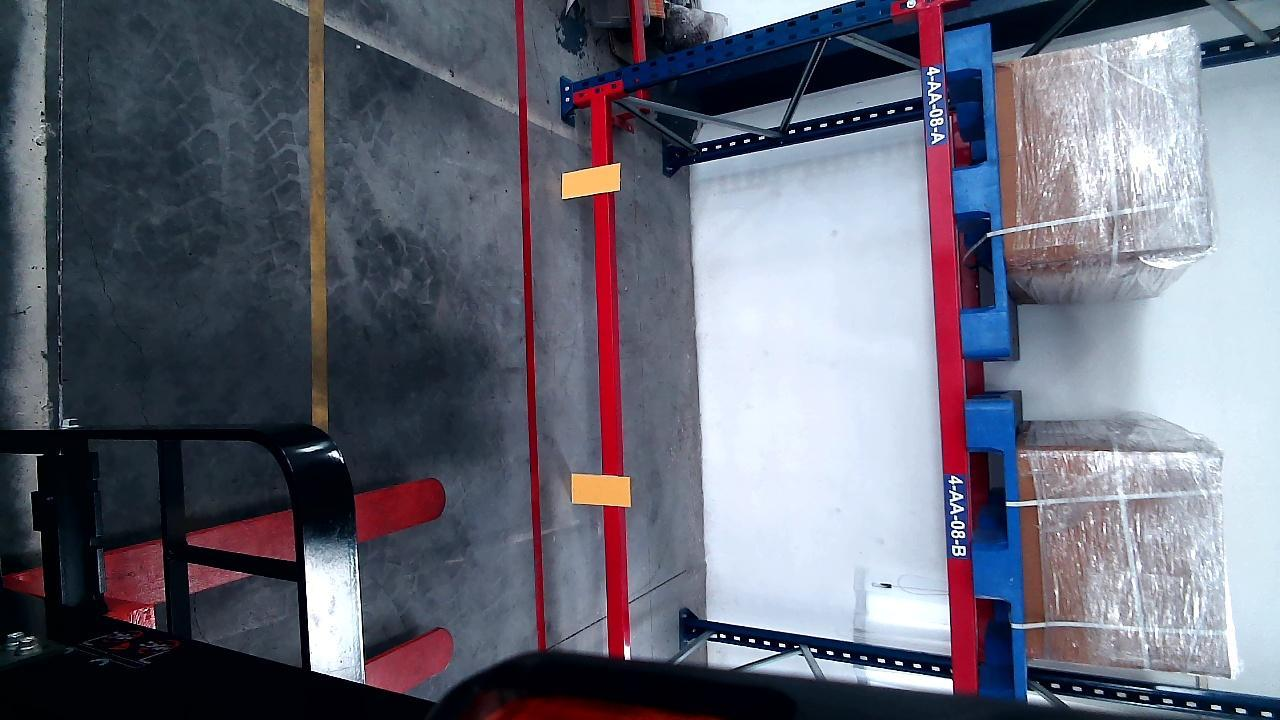red_line: (509, 1, 548, 648)
yellow_line: (307, 0, 330, 427)
